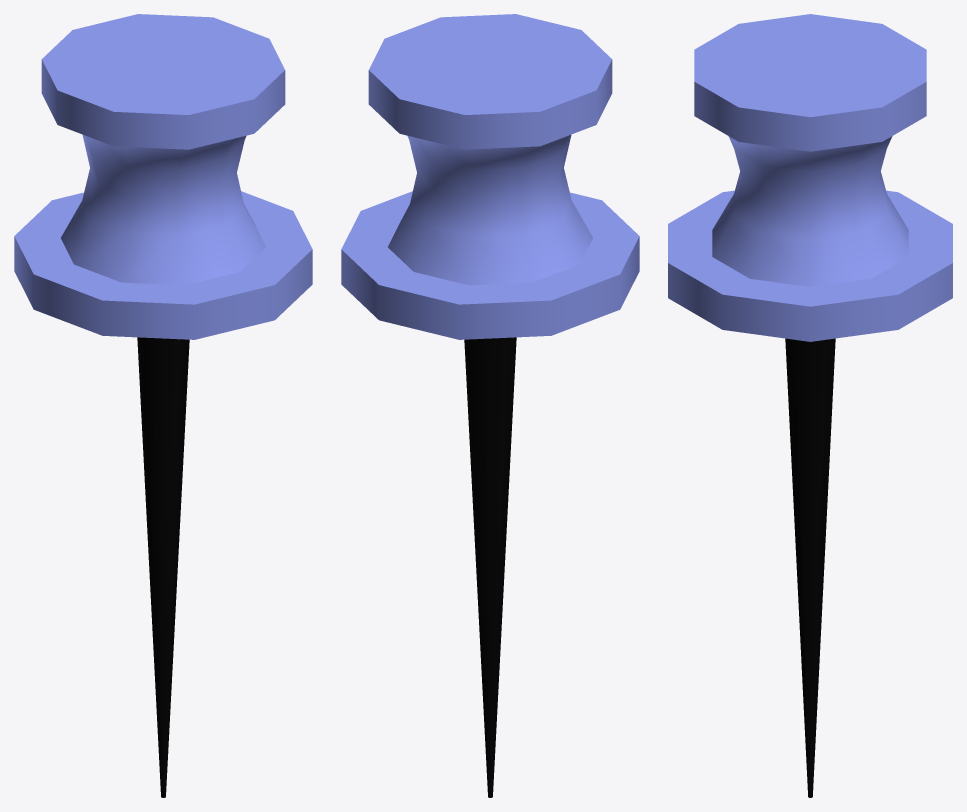
File: paper_pin.obj
3 views of the same model, side by side, from view 1: azimuth 30°, elevation 25°; view 2: azimuth 150°, elevation 25°; view 3: azimuth 270°, elevation 25° (orthographic).
Visible parts, largest first — view 1: paper_pin:group2 paper_pin:pasted__pSphere2 paper_pin:polySurfac; view 2: paper_pin:group2 paper_pin:pasted__pSphere2 paper_pin:polySurfac; view 3: paper_pin:group2 paper_pin:pasted__pSphere2 paper_pin:polySurfac.
Part boxes in pixels (<box>): paper_pin:group2 paper_pin:pasted__pSphere2 paper_pin:polySurfac: <box>14,14,312,797</box>; paper_pin:group2 paper_pin:pasted__pSphere2 paper_pin:polySurfac: <box>341,14,639,797</box>; paper_pin:group2 paper_pin:pasted__pSphere2 paper_pin:polySurfac: <box>668,14,952,797</box>.
Size of the model in its own units: 0.4146 by 1.12 by 0.3943.
